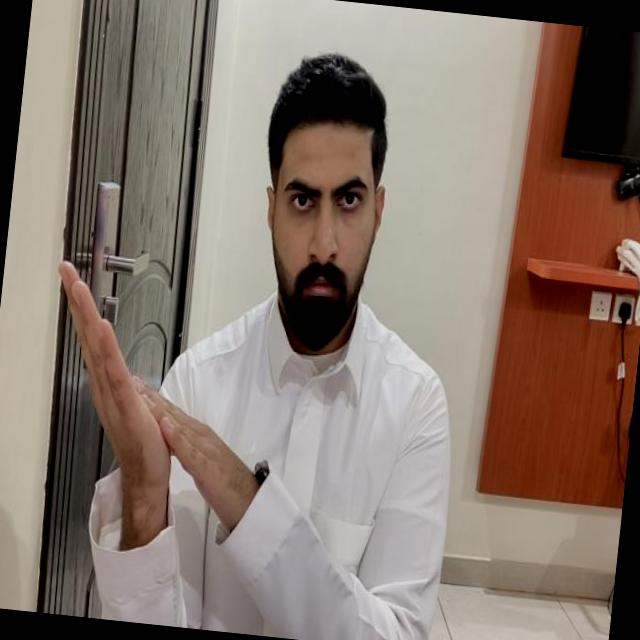complaint: (26, 257, 290, 555)
